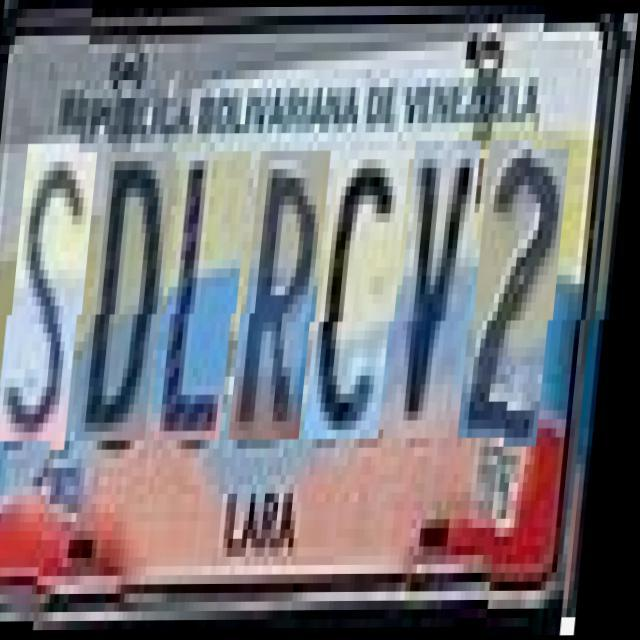2: (471, 141, 573, 439)
C: (317, 150, 413, 440)
D: (88, 152, 180, 441)
L: (162, 152, 255, 440)
R: (242, 151, 334, 440)
S: (8, 152, 100, 450)
V: (396, 142, 484, 440)
